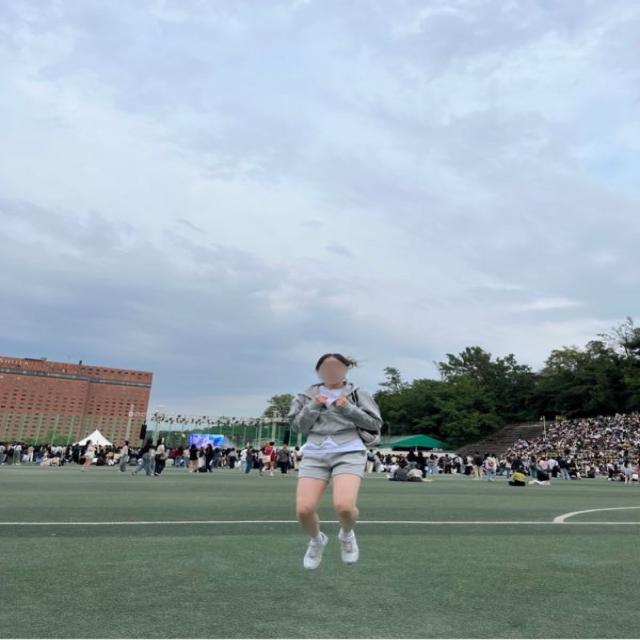shortpants: (292, 445, 369, 479)
zipup: (284, 381, 379, 446)
